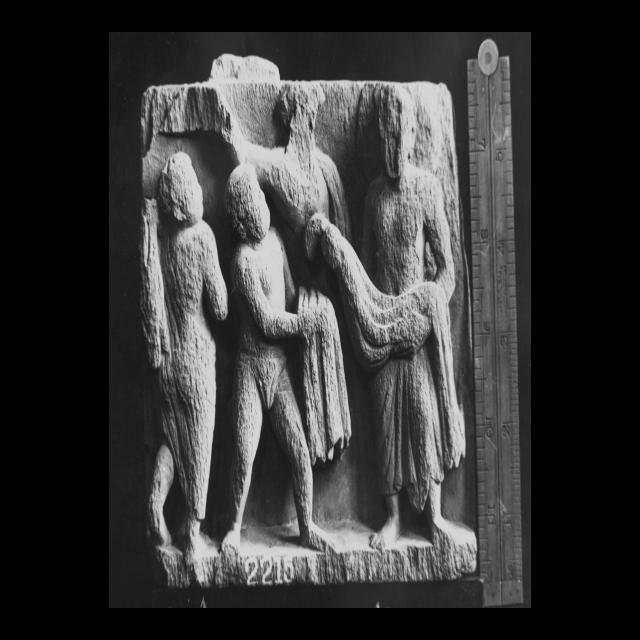buddha-standing: (308, 84, 465, 549)
